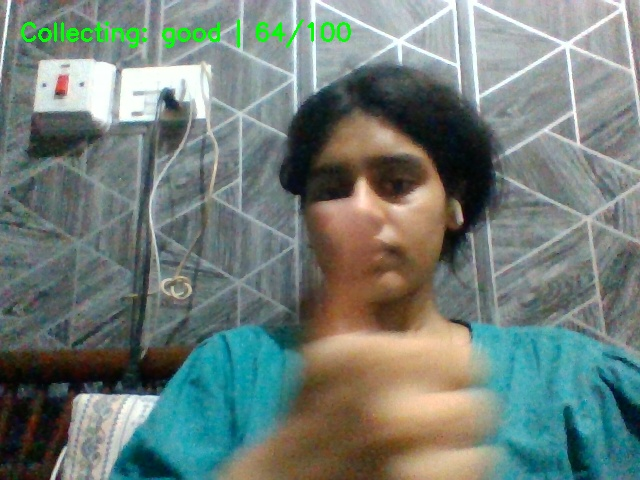good: (282, 208, 584, 480)
